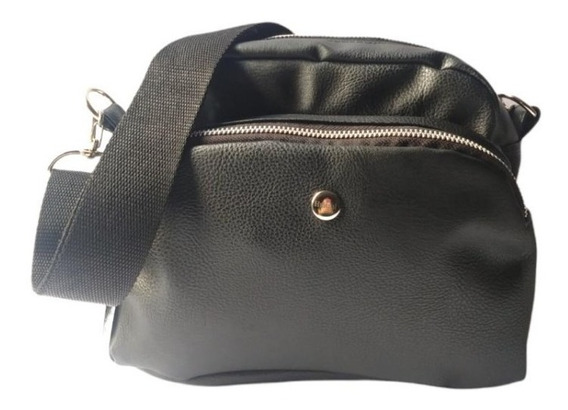cartera: (29, 19, 541, 390)
